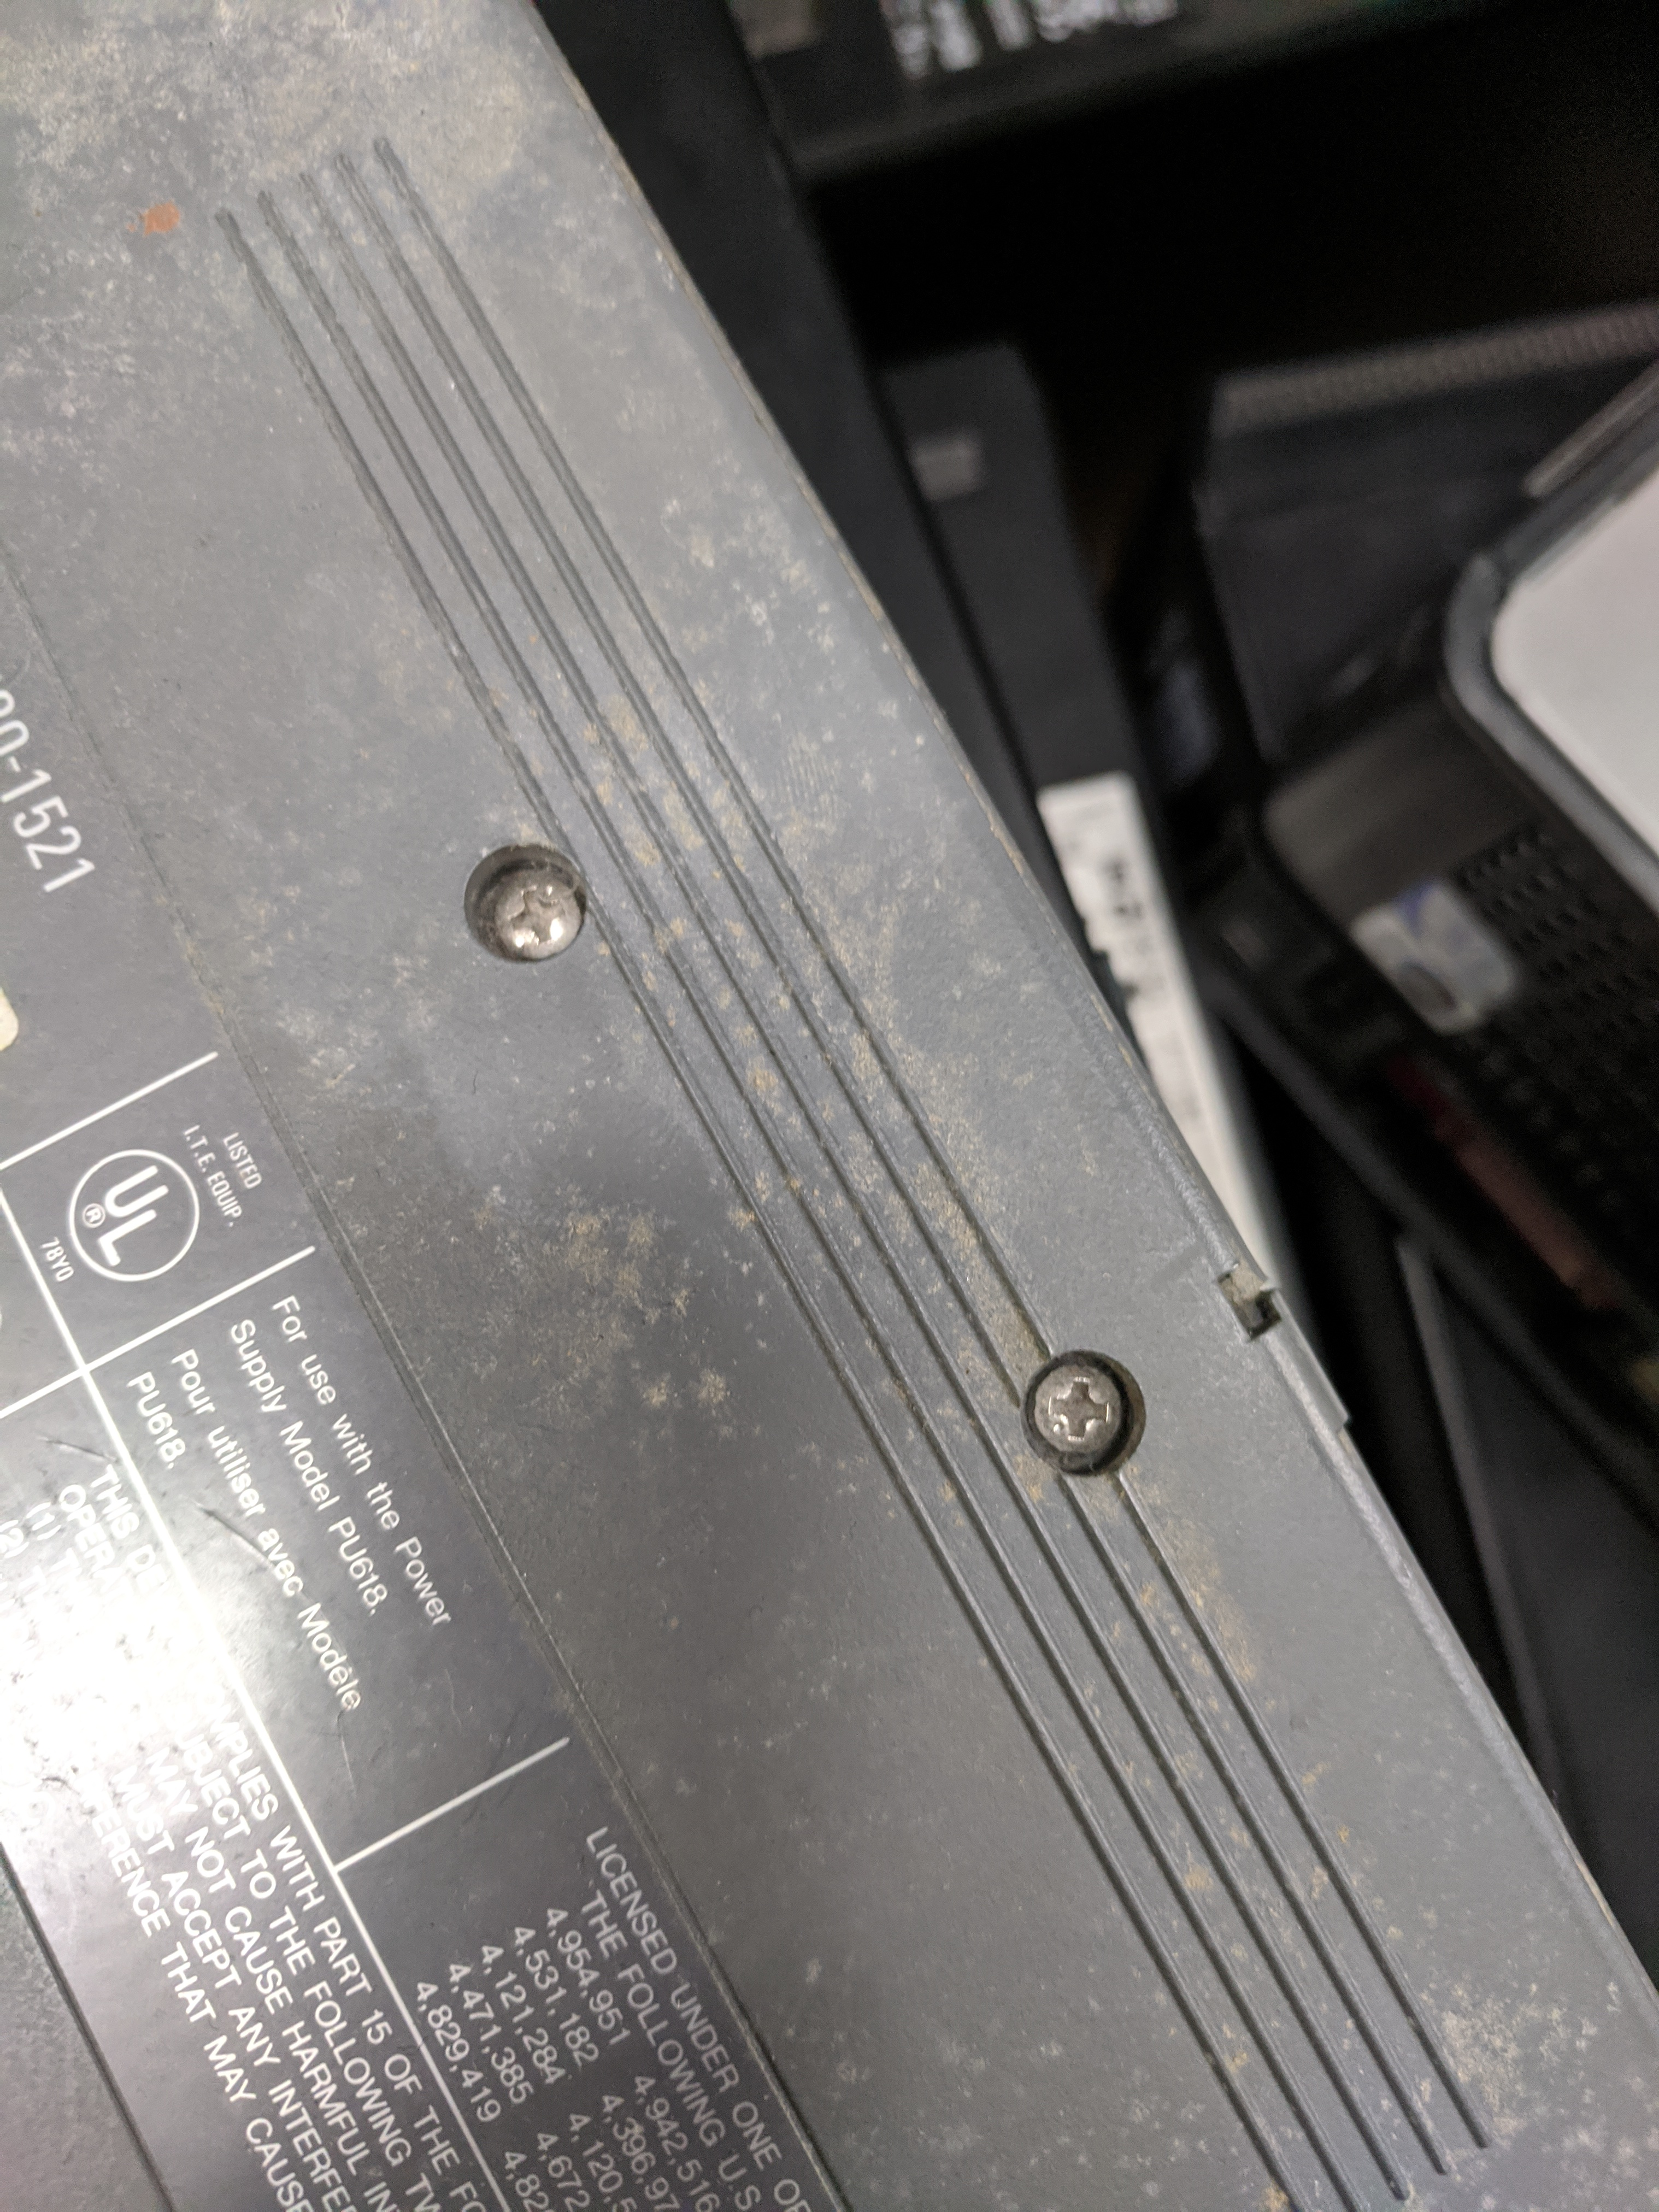cross_recessed_screw: (460, 845, 587, 956), (1019, 1350, 1127, 1470)
